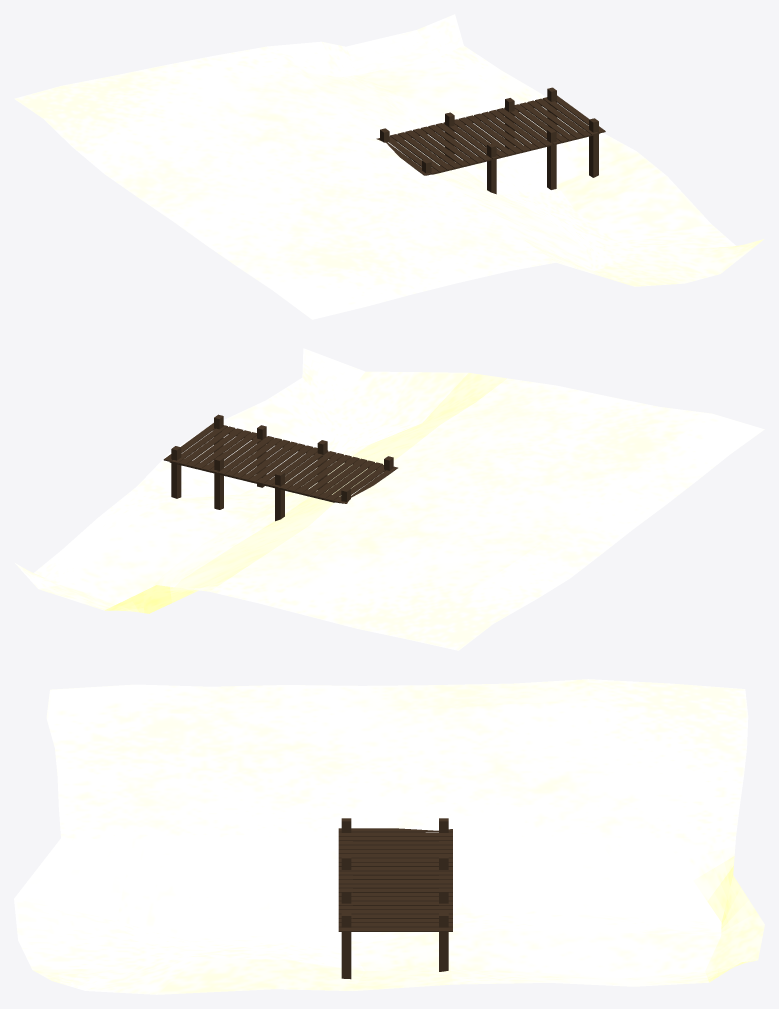
Rendered from Beach.fbx.
The picture shows the model from 3 angles, top to bottom: view 1: azimuth 30°, elevation 25°; view 2: azimuth 150°, elevation 25°; view 3: azimuth 270°, elevation 25°; orthographic projection. The views are drawn at different scales.
Visible parts, largest first — view 1: Grid, Planc_Cube; view 2: Grid, Planc_Cube; view 3: Grid, Planc_Cube.
Boxes of the visible parts, left/top/right/bottom form: Grid: left=14, top=14, right=763, bottom=319; Planc_Cube: left=376, top=87, right=605, bottom=194; Grid: left=15, top=348, right=764, bottom=650; Planc_Cube: left=163, top=414, right=397, bottom=521; Grid: left=14, top=679, right=764, bottom=994; Planc_Cube: left=338, top=818, right=452, bottom=979.
Size of the model in its own units: 8394 by 1156 by 10167.
Materials: 2 (1 with a texture image).
